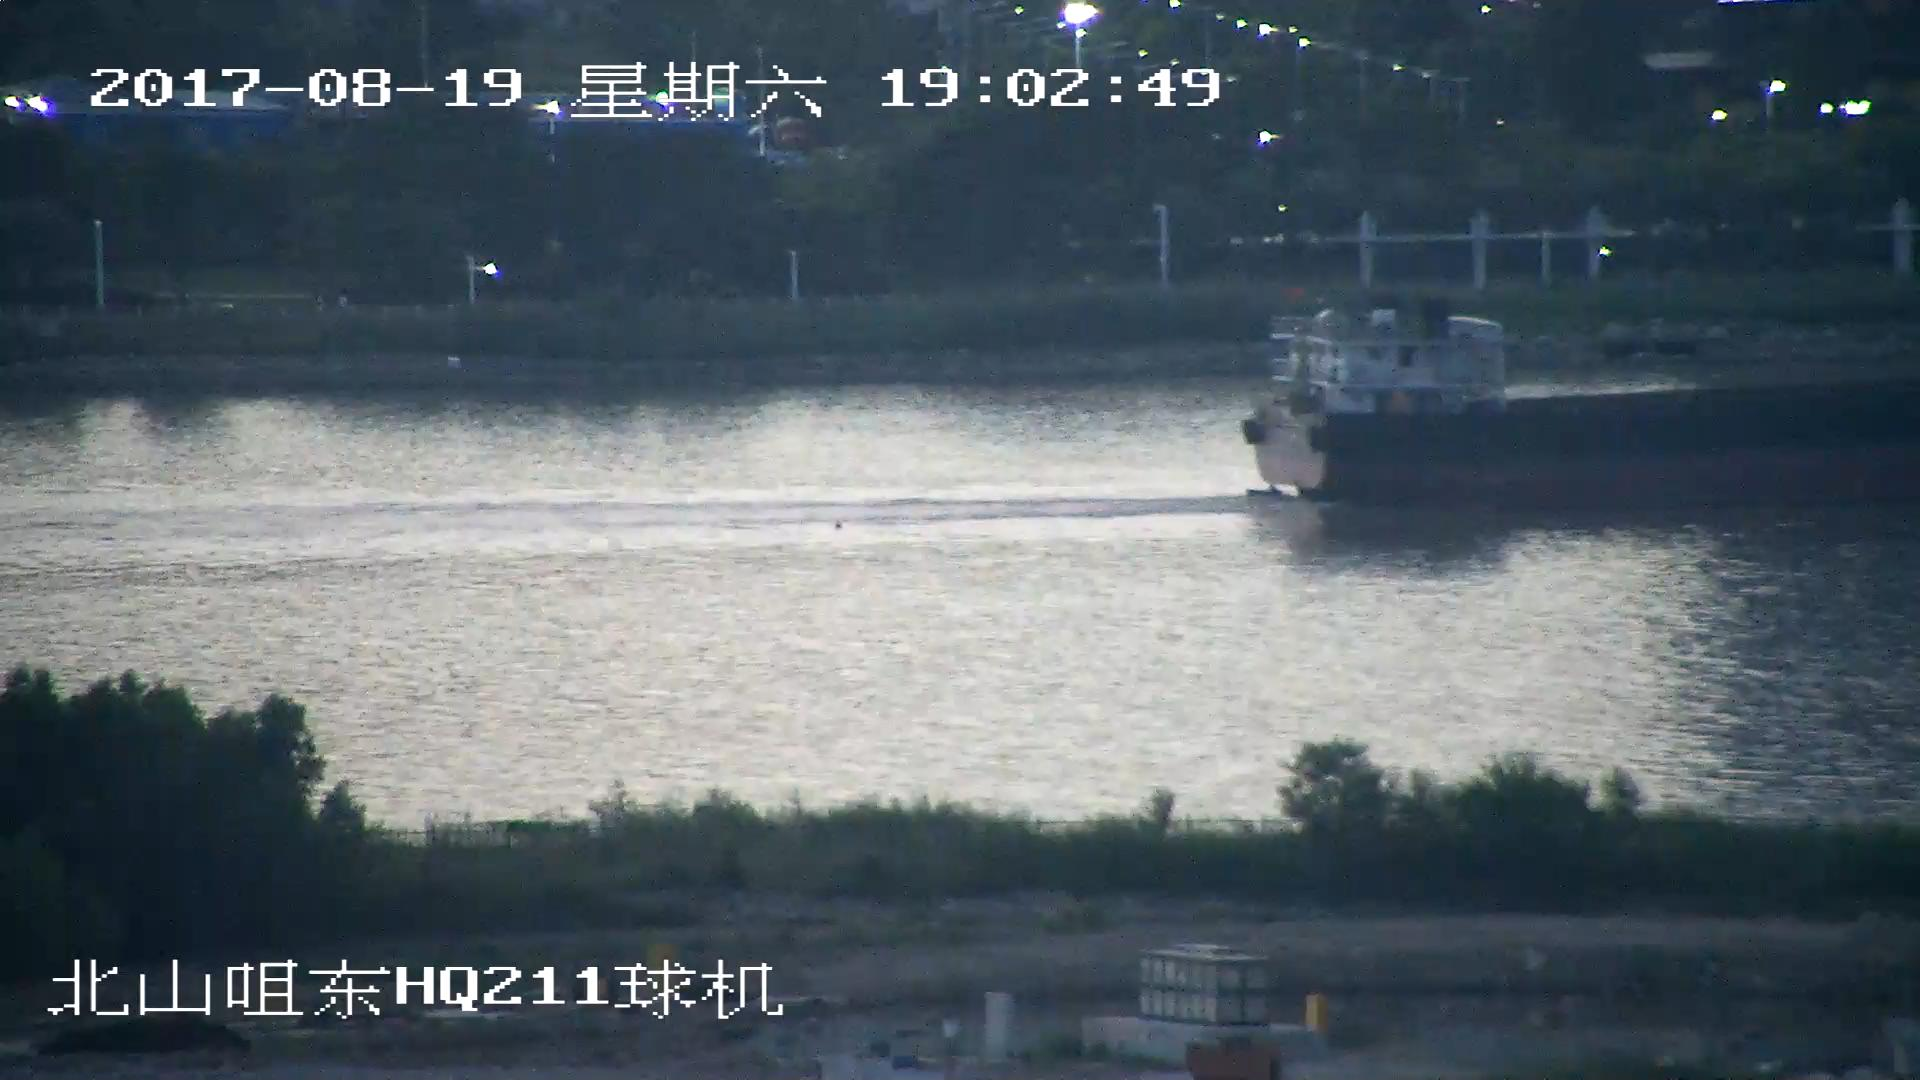general cargo ship: (1242, 313, 1920, 492)
